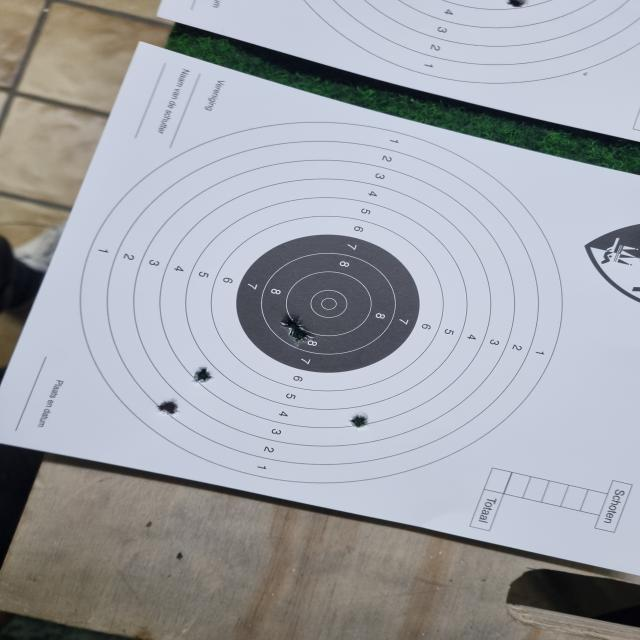2: (157, 400, 179, 414)
4: (192, 366, 213, 384), (349, 415, 370, 428)
5: (506, 0, 526, 8)
9: (280, 316, 304, 330), (291, 329, 314, 342)
Target: (78, 121, 564, 484), (303, 0, 635, 83)
black_contour: (234, 236, 422, 373)
